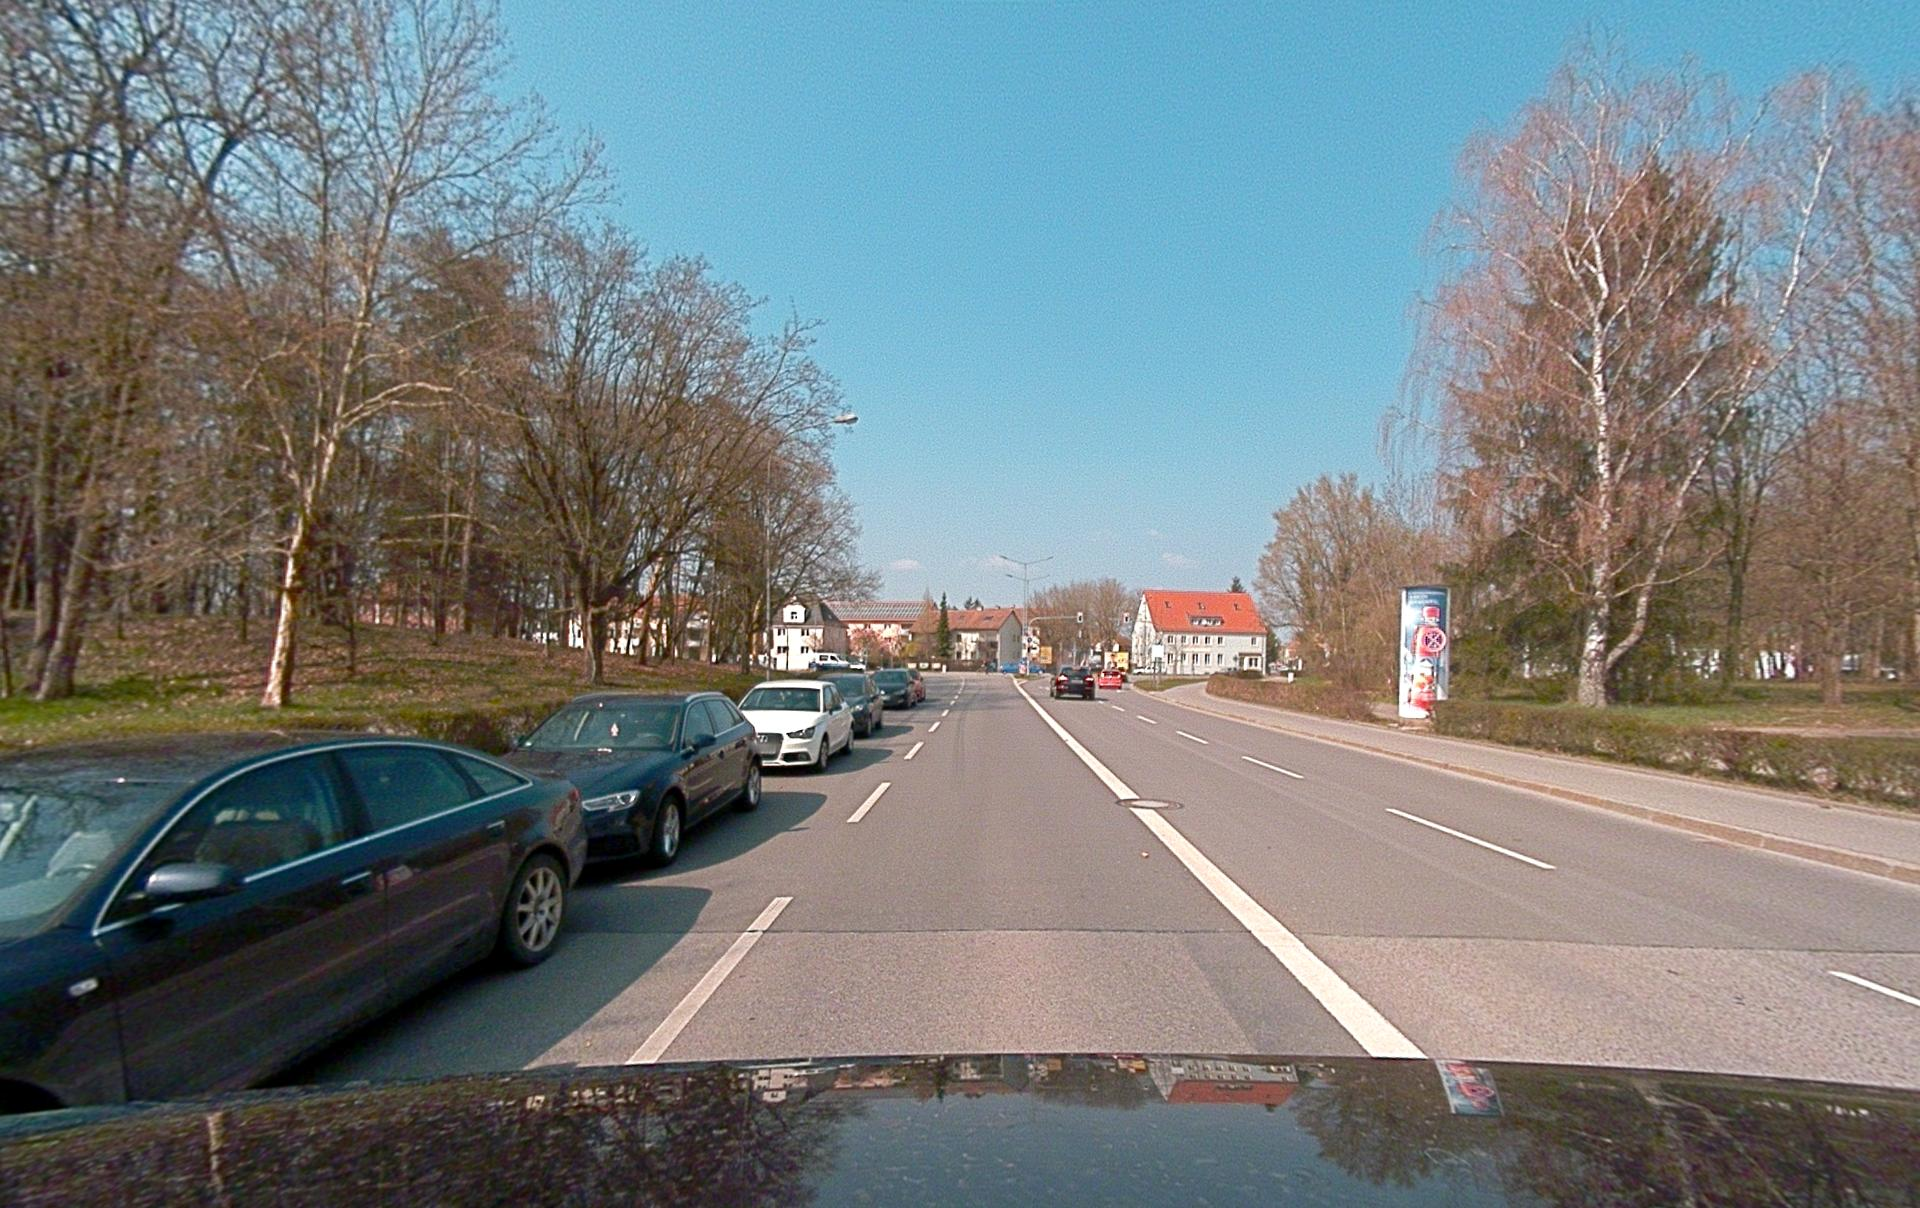car: (1, 735, 589, 1113), (498, 691, 763, 868), (736, 679, 855, 773), (812, 669, 885, 737), (871, 668, 925, 709), (1051, 666, 1096, 699), (1095, 669, 1123, 688)
traffic sign: (1398, 585, 1450, 720)
